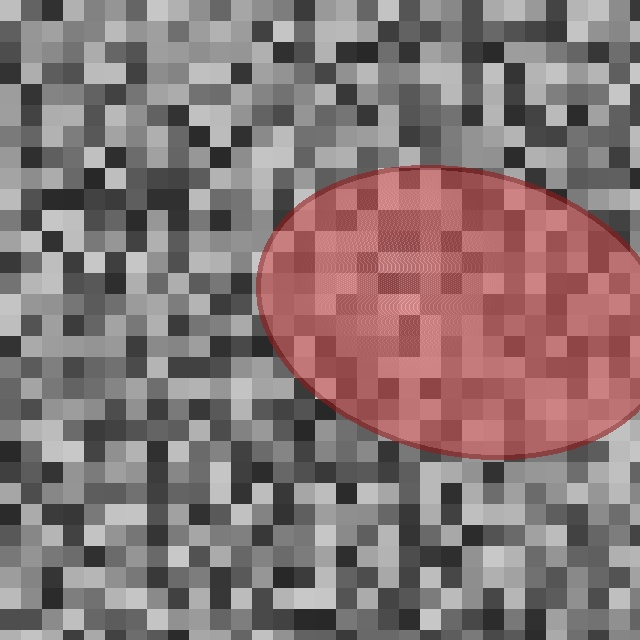lens: (259, 167, 640, 457)
